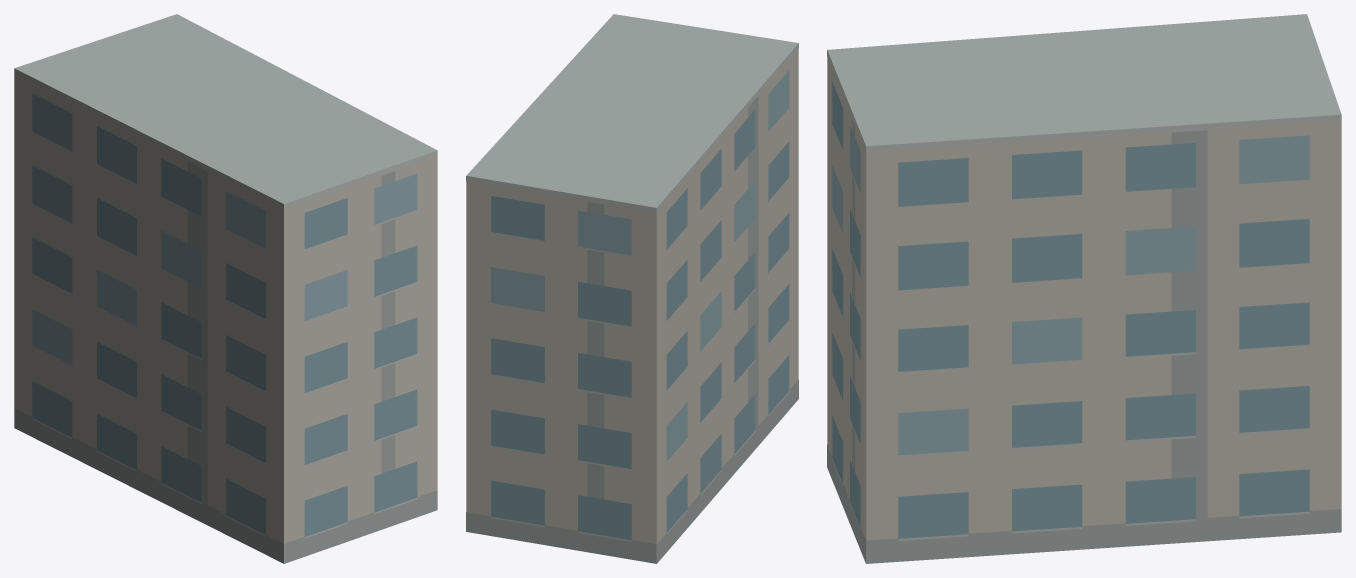
File: survey-upis-32763203.glb
3 renders of one model, left to right at view 1: azimuth 30°, elevation 25°; view 2: azimuth 150°, elevation 25°; view 3: azimuth 270°, elevation 25°, orthographic. The views are drawn at different scales.
Visible parts, largest first — view 1: survey-upis-32763203.tmp; view 2: survey-upis-32763203.tmp; view 3: survey-upis-32763203.tmp.
Part boxes in pixels (x1=…): survey-upis-32763203.tmp: x1=14, y1=14, x2=437, y2=563; survey-upis-32763203.tmp: x1=466, y1=14, x2=798, y2=563; survey-upis-32763203.tmp: x1=827, y1=14, x2=1341, y2=563.
Size of the model in its own units: 10.34 by 15.21 by 16.99.
